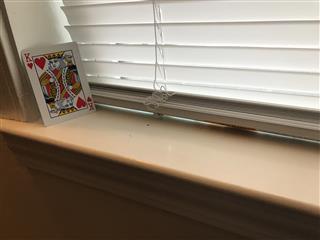KingOfHearts: (20, 41, 96, 126)
